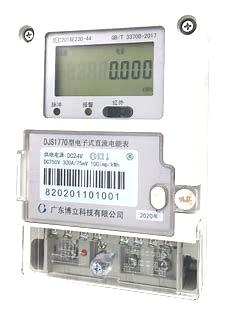digital: (10, 11, 200, 242)
